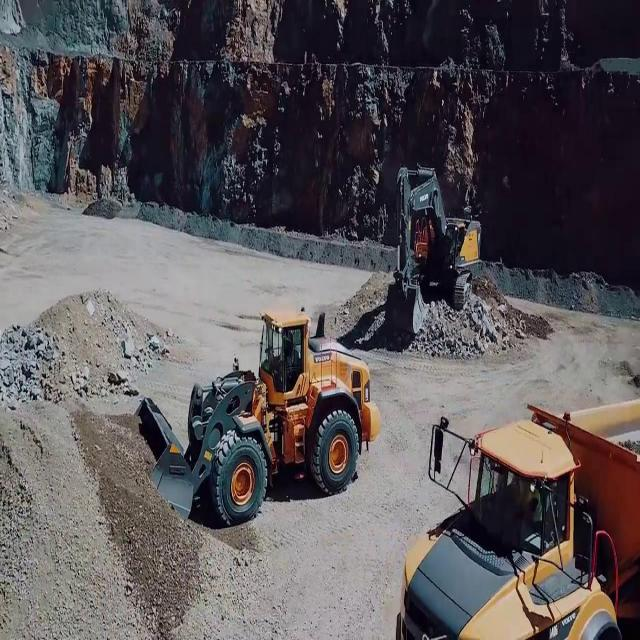Dump Truck: (392, 399, 640, 637)
Excavator: (386, 165, 481, 337)
Loader: (134, 309, 384, 527)
